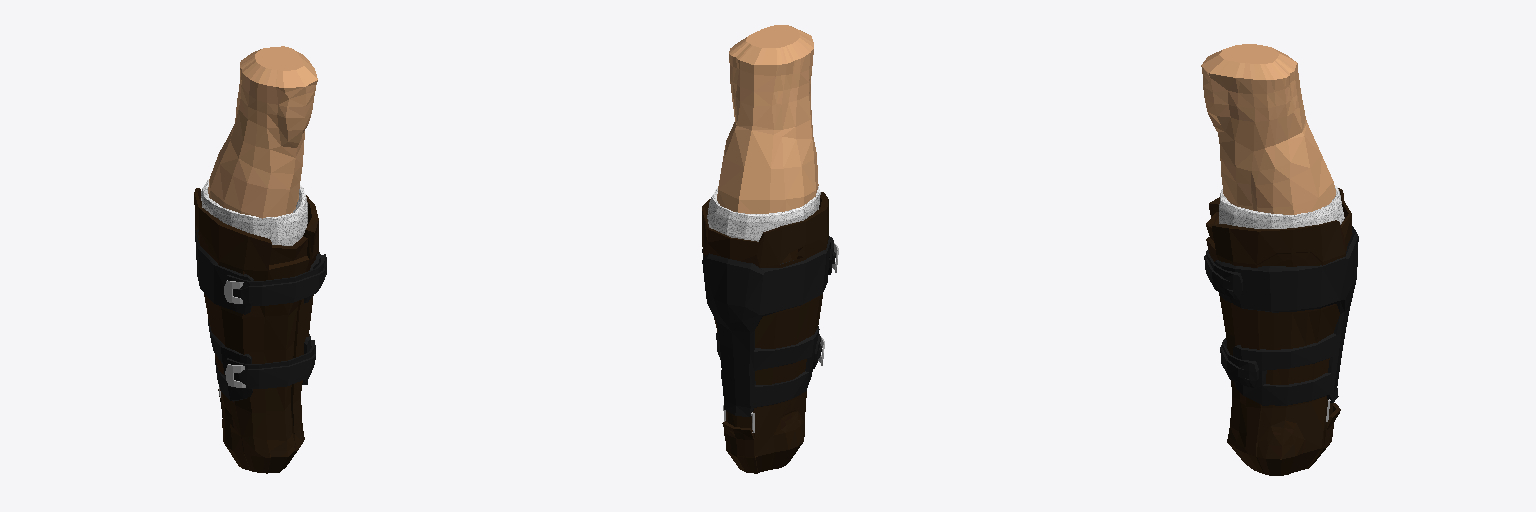
The picture shows the model from 3 angles: view 1: azimuth 30°, elevation 25°; view 2: azimuth 150°, elevation 25°; view 3: azimuth 270°, elevation 25°; orthographic projection.
Visible parts, largest first — view 1: Mesh2 Model, Mesh7 Model, Mesh4 Model, Mesh6 Model, Mesh5 Model; view 2: Mesh2 Model, Mesh7 Model, Mesh4 Model; view 3: Mesh2 Model, Mesh7 Model, Mesh4 Model, Mesh5 Model, Mesh6 Model.
Boxes of the visible parts, box(x1,y1,x2,y2) form: Mesh2 Model: box(194, 188, 320, 473); Mesh7 Model: box(208, 46, 317, 218); Mesh4 Model: box(201, 180, 307, 245); Mesh6 Model: box(224, 254, 326, 305); Mesh5 Model: box(223, 340, 315, 388); Mesh2 Model: box(702, 192, 830, 473); Mesh7 Model: box(717, 25, 818, 213); Mesh4 Model: box(707, 186, 820, 241); Mesh2 Model: box(1206, 188, 1358, 475); Mesh7 Model: box(1201, 44, 1335, 214); Mesh4 Model: box(1219, 186, 1344, 228); Mesh5 Model: box(1220, 338, 1258, 387); Mesh6 Model: box(1204, 250, 1242, 300).
Size of the model in its own units: 5.23 by 20.16 by 6.99.
Materials: 5 (1 with a texture image).